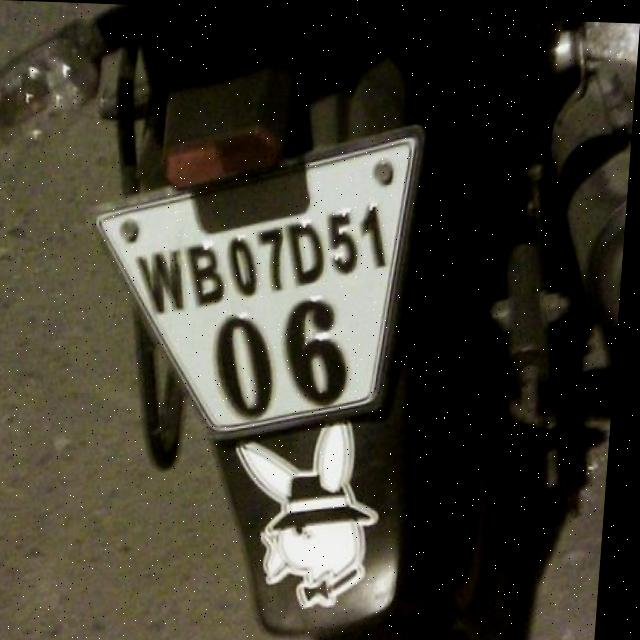plate: (76, 116, 428, 440)
